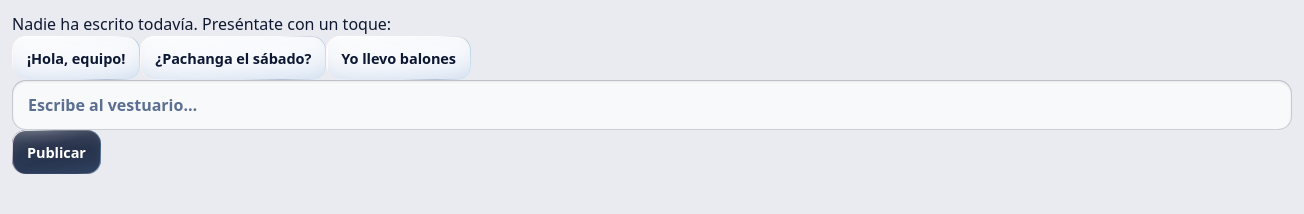
Test case: a refused post gives the text back and shows the app's words
In the field labelled "Escribe al vestuario": (652, 105) [12,80,1292,130], type "Otra vez"
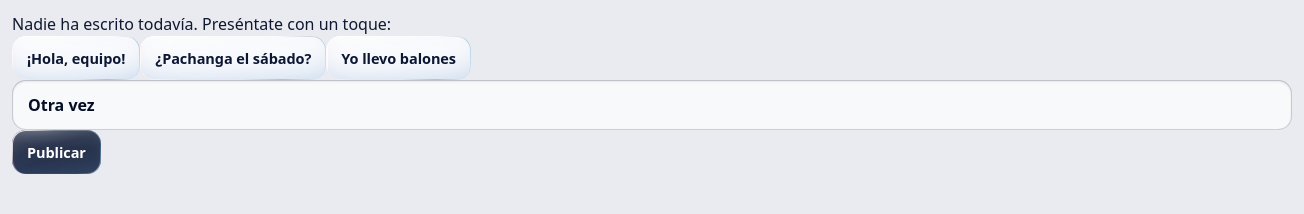
Press Enter in the field named "Escribe al vestuario", box [12,80,1292,130]
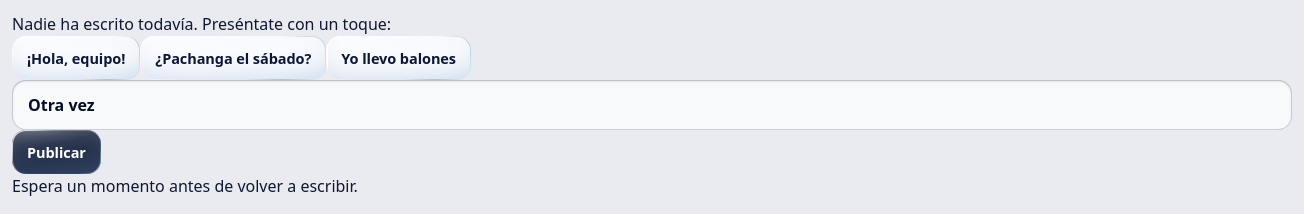
Now the message reads "Espera un momento antes de volver a escribir.", box [12,175,358,197]
